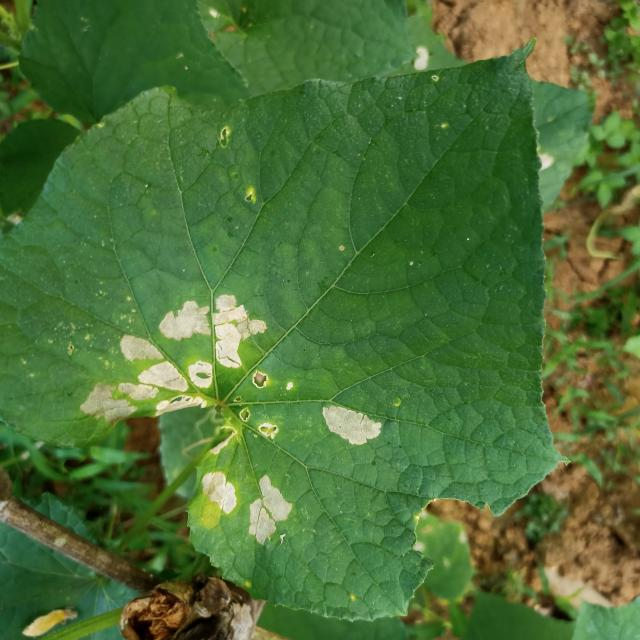disease_cucumber: (71, 293, 272, 429), (246, 472, 294, 548), (320, 403, 383, 446), (200, 470, 238, 516), (238, 405, 282, 439)
